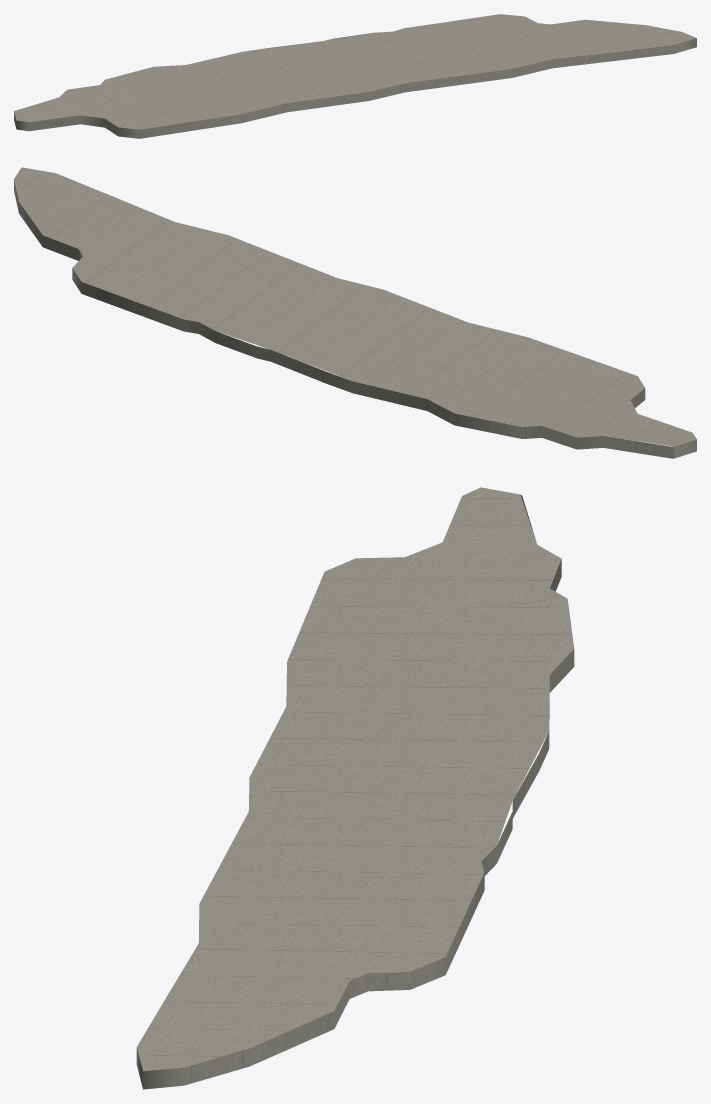
The model's file is curb_04.glb.
3 renders of one model, top to bottom at view 1: azimuth 30°, elevation 25°; view 2: azimuth 150°, elevation 25°; view 3: azimuth 270°, elevation 25°, orthographic. The views are drawn at different scales.
Parts seen in each view (by area): view 1: curb_04.surface, curb_04.sides; view 2: curb_04.surface, curb_04.sides; view 3: curb_04.surface, curb_04.sides.
Boxes of the visible parts, x1,y1,x2,y2 form: curb_04.surface: [14, 14, 696, 129]; curb_04.sides: [14, 33, 696, 138]; curb_04.surface: [14, 167, 696, 446]; curb_04.sides: [14, 180, 696, 458]; curb_04.surface: [137, 487, 573, 1071]; curb_04.sides: [136, 495, 574, 1089].
Bounding box in the file's own units: 11 × 0.2155 × 3.5.
1 material, 1 textured.
